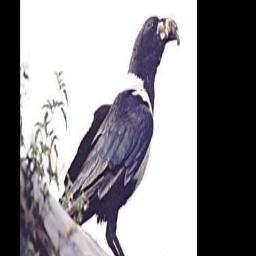Crow: (54, 13, 181, 256)
